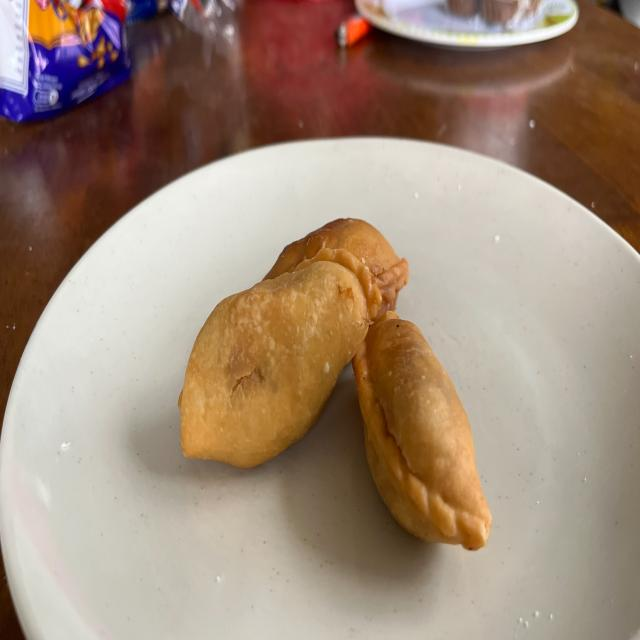karipap: (179, 249, 374, 467), (352, 311, 491, 549), (274, 218, 409, 313)
